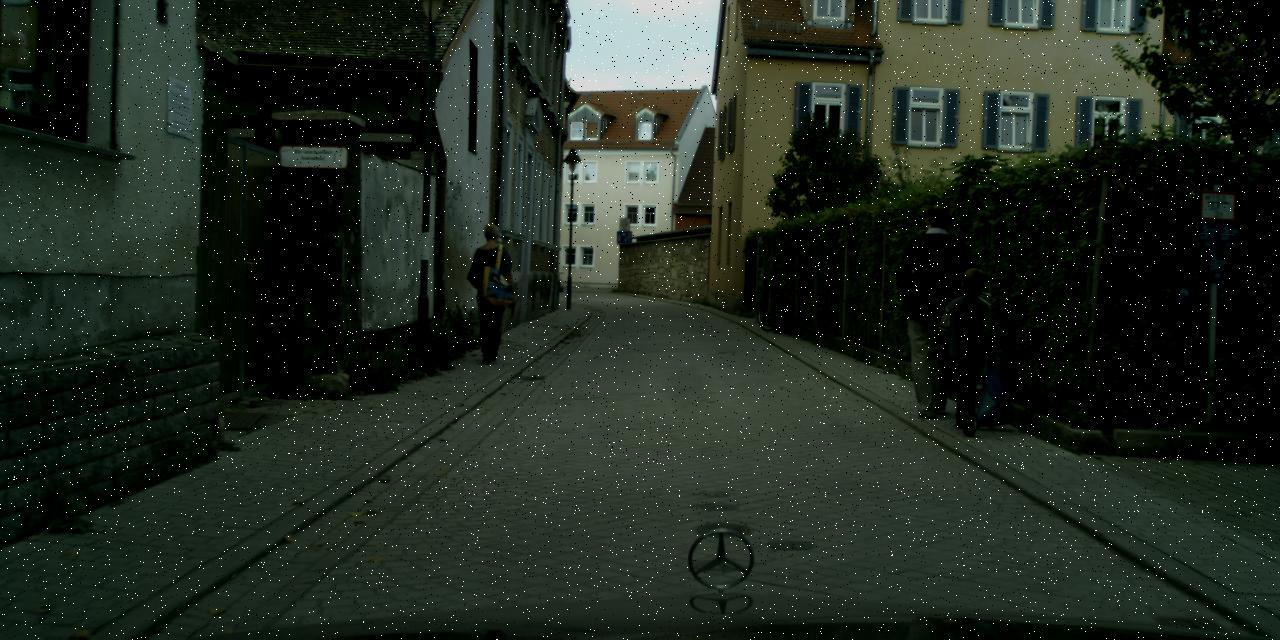ped: (894, 204, 980, 414), (938, 267, 1007, 434), (462, 223, 520, 363)
